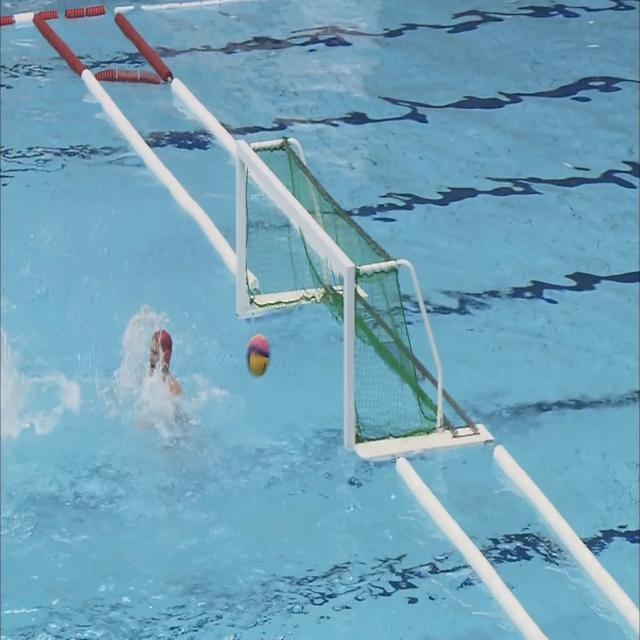ball: (247, 334, 270, 377)
